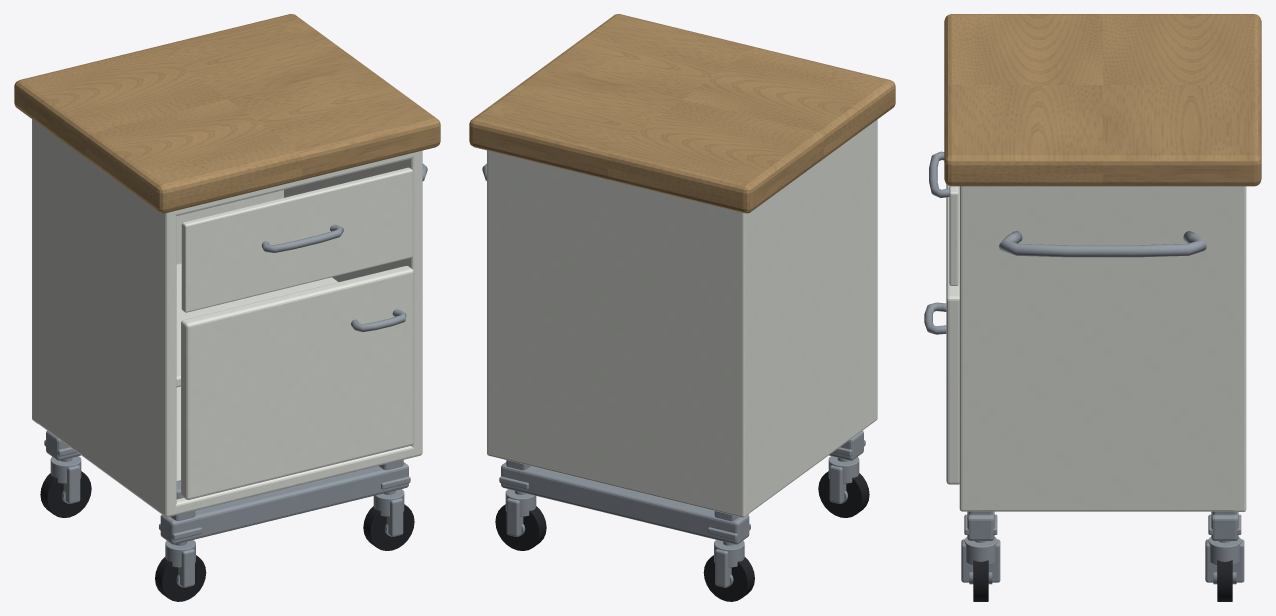
3 renders of one model, left to right at view 1: azimuth 30°, elevation 25°; view 2: azimuth 150°, elevation 25°; view 3: azimuth 270°, elevation 25°, orthographic. The views are drawn at different scales.
Visible parts, largest first — view 1: Wipe clean bedside top, Cabinet side, Lower cabinet door, Drawer face, Caster base crossbar, Cabinet side.001, Cabinet horizontal, Cabinet back, Interior shelf, Cabinet horizontal.001, Cast polyurethane wheel.002, Cast polyurethane wheel.001 (+4 smaller); view 2: Cabinet back, Wipe clean bedside top, Cabinet side, Caster base crossbar.001, Cabinet horizontal, Cast polyurethane wheel.003, Cast polyurethane wheel, Cast polyurethane wheel.001, Cabinet side.001, Cabinet horizontal.001, Caster fork.003, Caster fork; view 3: Cabinet side.001, Wipe clean bedside top, Cabinet back, Lower cabinet door, Towel rail, Cabinet horizontal, Cabinet horizontal.001, Drawer face, Caster base crossbar, Caster base crossbar.001, Caster swivel.003, Caster swivel.002 (+6 smaller).
Part boxes in pixels (x1,y1,x2,y2): Wipe clean bedside top: [14, 14, 440, 213]; Cabinet side: [32, 120, 176, 517]; Lower cabinet door: [181, 266, 413, 499]; Drawer face: [181, 167, 412, 312]; Caster base crossbar: [160, 462, 408, 544]; Cabinet side.001: [284, 151, 422, 456]; Cabinet horizontal: [167, 386, 422, 516]; Cabinet back: [32, 119, 283, 423]; Interior shelf: [176, 263, 338, 387]; Cabinet horizontal.001: [161, 150, 422, 216]; Cast polyurethane wheel.002: [363, 504, 414, 550]; Cast polyurethane wheel.001: [40, 471, 91, 517]; Cabinet back: [487, 150, 749, 517]; Wipe clean bedside top: [469, 14, 895, 213]; Cabinet side: [735, 119, 877, 513]; Caster base crossbar.001: [501, 462, 749, 544]; Cabinet horizontal: [597, 413, 877, 514]; Cast polyurethane wheel.003: [495, 504, 546, 550]; Cast polyurethane wheel: [818, 471, 869, 517]; Cast polyurethane wheel.001: [703, 555, 754, 601]; Cabinet side.001: [488, 151, 495, 416]; Cabinet horizontal.001: [489, 151, 741, 215]; Caster fork.003: [506, 498, 523, 536]; Caster fork: [829, 465, 846, 503]; Cabinet side.001: [959, 186, 1242, 511]; Wipe clean bedside top: [944, 14, 1261, 186]; Cabinet back: [1233, 186, 1246, 511]; Lower cabinet door: [946, 184, 959, 484]; Towel rail: [999, 231, 1206, 257]; Cabinet horizontal: [959, 502, 1233, 509]; Cabinet horizontal.001: [959, 186, 1242, 191]; Drawer face: [949, 186, 958, 285]; Caster base crossbar: [967, 511, 994, 540]; Caster base crossbar.001: [1211, 511, 1238, 540]; Caster swivel.003: [1208, 537, 1241, 564]; Caster swivel.002: [964, 537, 997, 564].
Bounding box in the file's own units: 0.6128 × 0.8325 × 0.5525.
4 materials, 4 textured.
